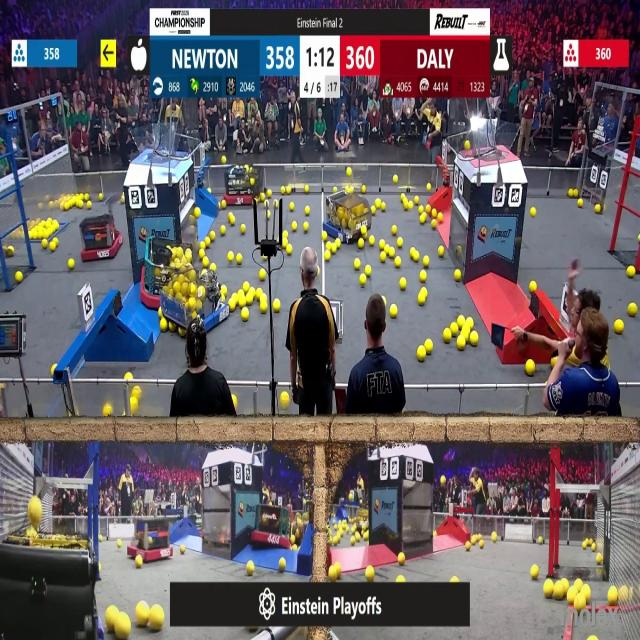ball_airborne: (29, 497, 42, 522), (464, 141, 470, 150)
ball_ground: (149, 609, 163, 633), (115, 616, 129, 638), (137, 605, 149, 629), (607, 588, 617, 606), (574, 593, 585, 608), (543, 582, 552, 600), (280, 392, 290, 408), (328, 565, 338, 580), (628, 304, 638, 318), (584, 586, 592, 603), (567, 588, 575, 604), (469, 333, 477, 348), (103, 406, 113, 418), (526, 360, 534, 374), (365, 566, 373, 580), (616, 320, 624, 334), (418, 347, 426, 361), (425, 341, 433, 354), (457, 338, 465, 351), (247, 561, 254, 575), (531, 565, 538, 579), (259, 302, 267, 314), (242, 308, 249, 321), (445, 328, 452, 341), (454, 271, 462, 282), (245, 294, 253, 305), (274, 301, 281, 313), (419, 292, 426, 304), (279, 559, 286, 571), (136, 556, 143, 568), (389, 306, 396, 318), (628, 267, 635, 279), (397, 554, 404, 566), (411, 248, 418, 260), (49, 240, 56, 252), (452, 322, 458, 336), (239, 294, 246, 306), (388, 247, 396, 257), (162, 319, 168, 332), (258, 270, 265, 281), (420, 272, 427, 283), (394, 256, 401, 267), (359, 275, 366, 286), (68, 260, 75, 271), (466, 317, 473, 328), (399, 278, 405, 290), (15, 272, 21, 284), (233, 394, 239, 406), (354, 261, 361, 271), (203, 257, 210, 267), (193, 208, 200, 218), (364, 267, 371, 277), (230, 302, 237, 312), (596, 555, 603, 565), (220, 285, 227, 295), (530, 281, 536, 292), (244, 281, 250, 292), (458, 316, 464, 327), (228, 214, 234, 225), (451, 575, 459, 583), (76, 201, 84, 209), (595, 205, 602, 214), (205, 238, 212, 247), (572, 188, 579, 197), (381, 203, 388, 212), (237, 253, 243, 263), (380, 240, 386, 250), (391, 224, 397, 234), (381, 252, 387, 262), (220, 224, 226, 234), (286, 245, 292, 255), (423, 256, 429, 266), (179, 327, 185, 337), (396, 238, 402, 248), (210, 232, 216, 242), (492, 532, 498, 542), (362, 531, 368, 541), (402, 201, 408, 211), (354, 536, 360, 546), (396, 575, 404, 582), (210, 264, 217, 272), (115, 539, 122, 547), (291, 221, 297, 230), (227, 252, 233, 261), (368, 238, 374, 247), (420, 214, 426, 223), (324, 251, 330, 260), (200, 249, 206, 258), (220, 201, 226, 210), (325, 242, 331, 251), (290, 535, 296, 544), (436, 213, 442, 222), (440, 247, 445, 257), (241, 223, 246, 233), (358, 240, 363, 250), (376, 200, 381, 210), (336, 241, 342, 249), (419, 206, 425, 214), (259, 192, 265, 200), (330, 246, 336, 254), (282, 240, 288, 248), (255, 288, 261, 296), (127, 373, 133, 381), (470, 535, 476, 543), (409, 202, 415, 210), (84, 194, 90, 202), (221, 158, 227, 166), (304, 222, 309, 231), (289, 203, 294, 212), (431, 219, 436, 228), (268, 210, 273, 219), (201, 241, 206, 250), (426, 183, 432, 190), (286, 187, 292, 194), (531, 208, 536, 216), (577, 200, 582, 208), (180, 544, 185, 552), (465, 541, 470, 549), (99, 192, 104, 200), (268, 189, 273, 197), (88, 202, 93, 210), (568, 188, 573, 196), (42, 240, 47, 248), (431, 210, 436, 218), (347, 168, 352, 176), (322, 233, 326, 242), (283, 232, 288, 239), (426, 206, 431, 213), (306, 207, 310, 215), (370, 207, 374, 215), (361, 185, 365, 193), (306, 185, 310, 193), (400, 192, 404, 200), (120, 194, 124, 202), (276, 202, 280, 210), (481, 539, 485, 547), (393, 176, 397, 183), (292, 543, 296, 550), (538, 536, 542, 543), (416, 198, 420, 205), (281, 186, 285, 193), (636, 236, 640, 243), (432, 530, 436, 537), (592, 543, 596, 550), (590, 636, 597, 640), (100, 535, 104, 541), (208, 187, 212, 193)
goal: (466, 121, 522, 160), (130, 129, 188, 161)
robot_blue: (165, 269, 230, 333), (324, 190, 371, 244)
robot_red: (82, 213, 124, 262), (129, 516, 174, 560), (258, 503, 298, 547), (222, 163, 263, 205)
